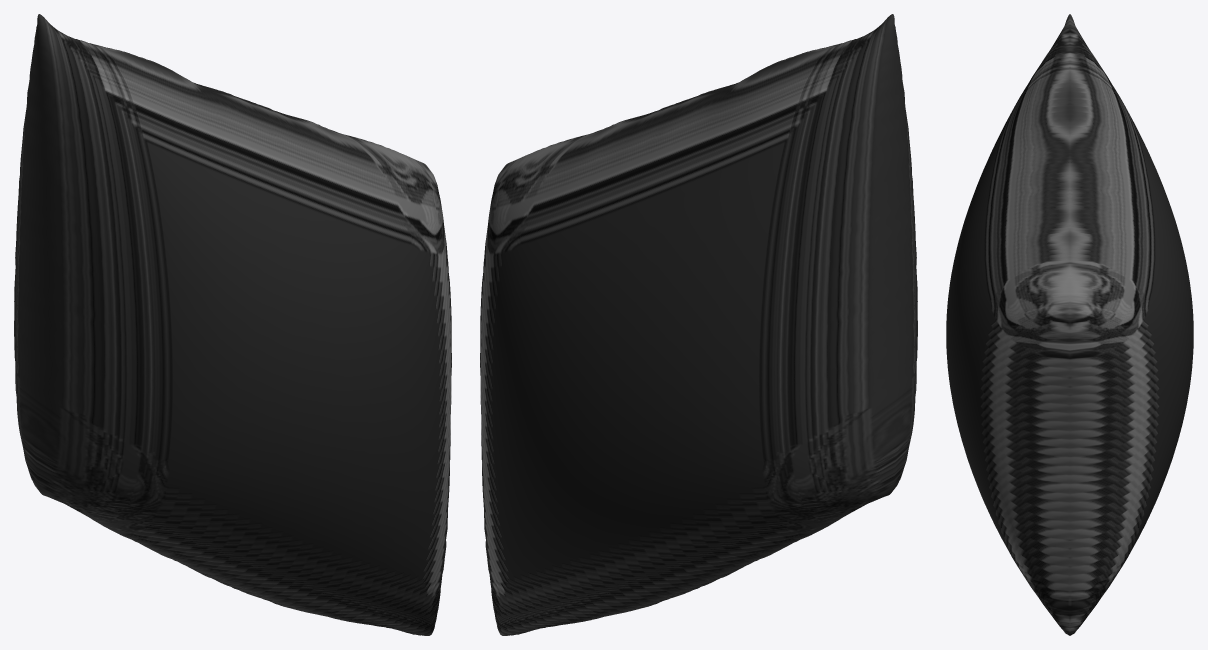
File: noise2.glb
3 views of the same model, side by side, from view 1: azimuth 30°, elevation 25°; view 2: azimuth 150°, elevation 25°; view 3: azimuth 270°, elevation 25° (orthographic). The views are drawn at different scales.
Size of the model in its own units: 3.89 by 6.69 by 3.05.
1 material, 1 textured.
